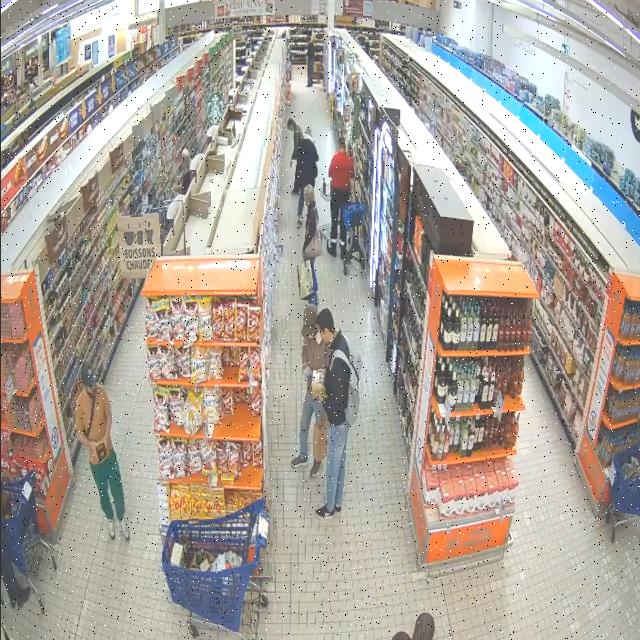article: (312, 383, 327, 401), (312, 369, 325, 386), (96, 443, 107, 461)
bags: (331, 349, 362, 425), (297, 260, 313, 299), (304, 227, 323, 259), (85, 391, 97, 438)
hands: (88, 441, 98, 456), (96, 434, 108, 446), (302, 249, 308, 263), (302, 361, 308, 370), (290, 159, 293, 167)
person: (76, 363, 130, 540), (316, 309, 350, 519), (292, 305, 330, 477), (328, 137, 354, 258), (296, 127, 318, 228), (303, 185, 318, 305), (288, 118, 303, 166)
